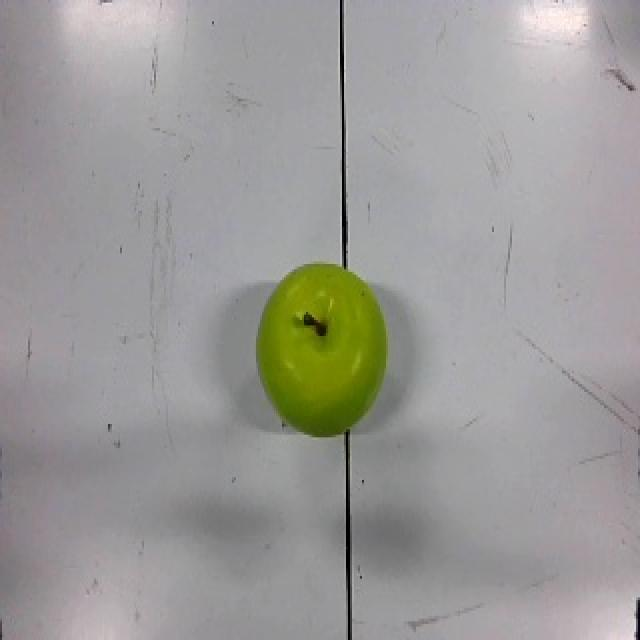apple: (255, 261, 390, 438)
